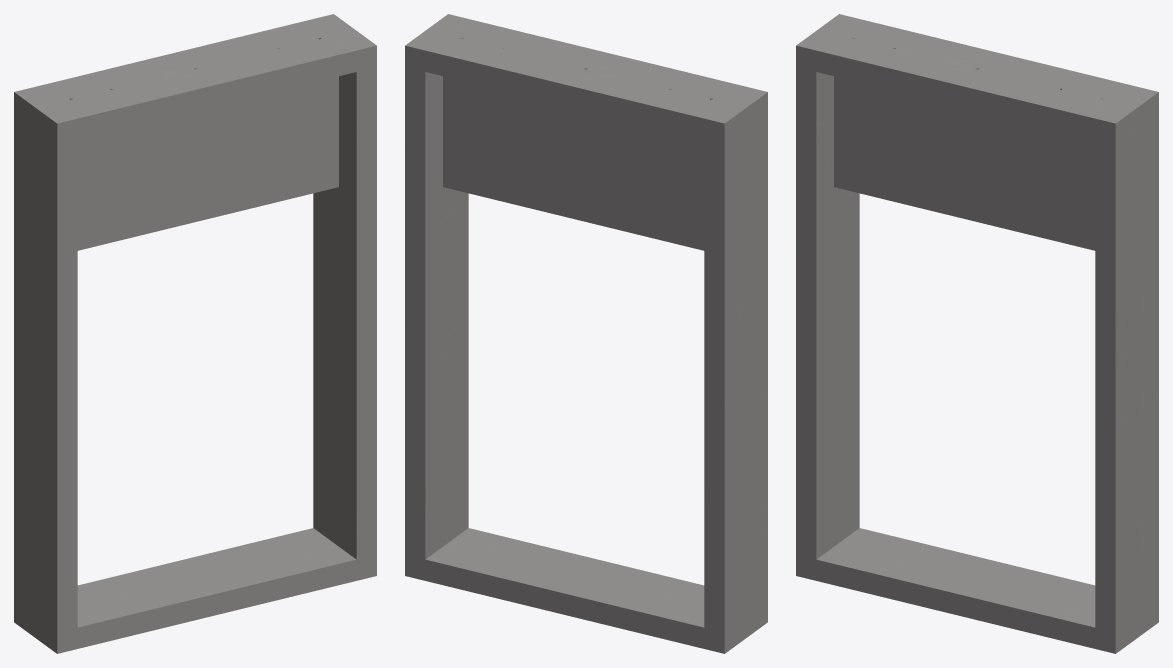
The picture shows the model from 3 angles, left to right: view 1: azimuth 30°, elevation 25°; view 2: azimuth 150°, elevation 25°; view 3: azimuth 330°, elevation 25°; orthographic projection.
Parts seen in each view (by area): view 1: Mesh5_Agrupar_5_Model002, Mesh5_Agrupar_5_Model001; view 2: Mesh5_Agrupar_5_Model002, Mesh5_Agrupar_5_Model001; view 3: Mesh5_Agrupar_5_Model002, Mesh5_Agrupar_5_Model001.
Part boxes in pixels (bbox=[...]): Mesh5_Agrupar_5_Model002: bbox=[14, 14, 376, 653]; Mesh5_Agrupar_5_Model001: bbox=[77, 76, 338, 250]; Mesh5_Agrupar_5_Model002: bbox=[405, 14, 767, 653]; Mesh5_Agrupar_5_Model001: bbox=[443, 76, 704, 250]; Mesh5_Agrupar_5_Model002: bbox=[796, 14, 1158, 653]; Mesh5_Agrupar_5_Model001: bbox=[834, 76, 1095, 250].
Bounding box in the file's own units: 0.94 × 1.49 × 0.22.
Materials: 3 (2 with a texture image).
